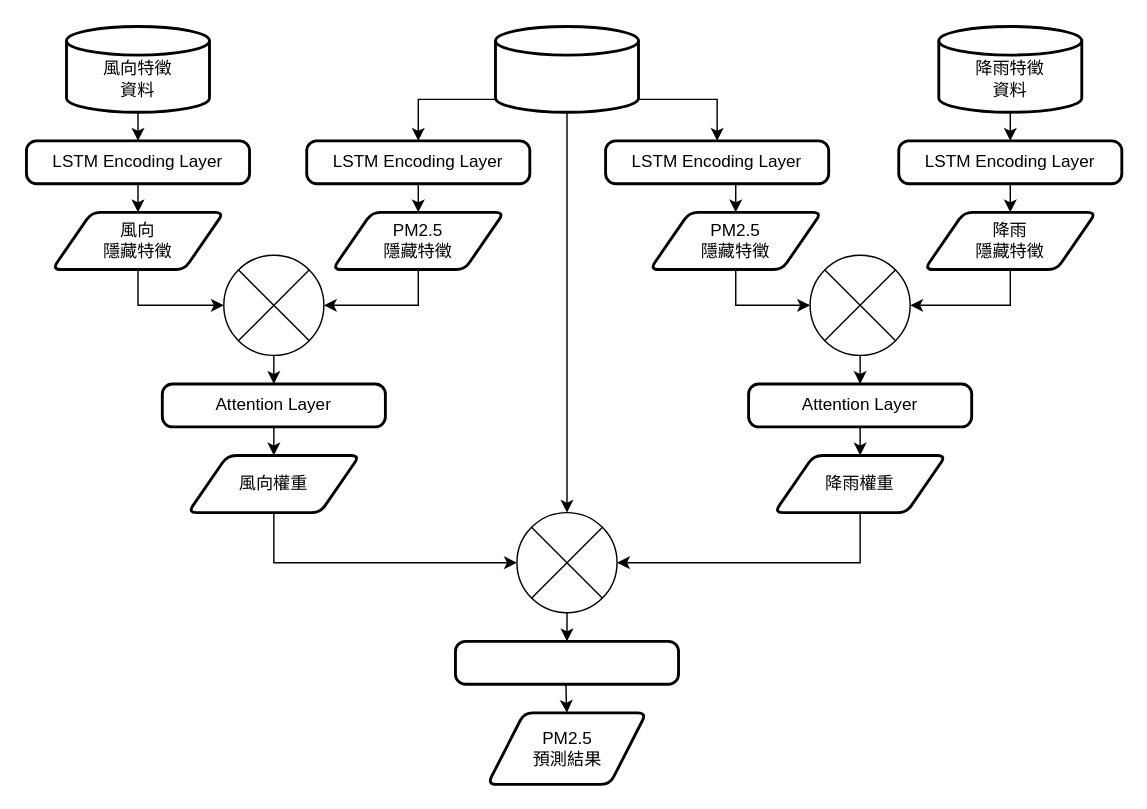
Image size: 1147x809. Some labels were removed from this diagram. The centre of each missing label's shape, as x and y in pixels:
LSTM Model: the point at 566,662
PM2.5 資料: the point at 566,68
